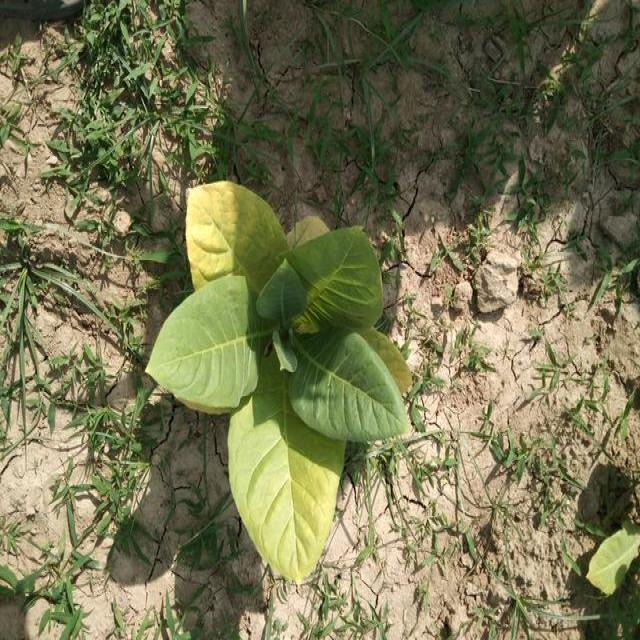crop: (140, 175, 416, 581)
